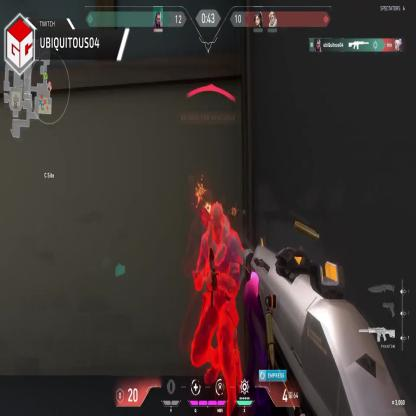enemy: (192, 202, 244, 416)
enemy_head: (209, 200, 225, 245)
